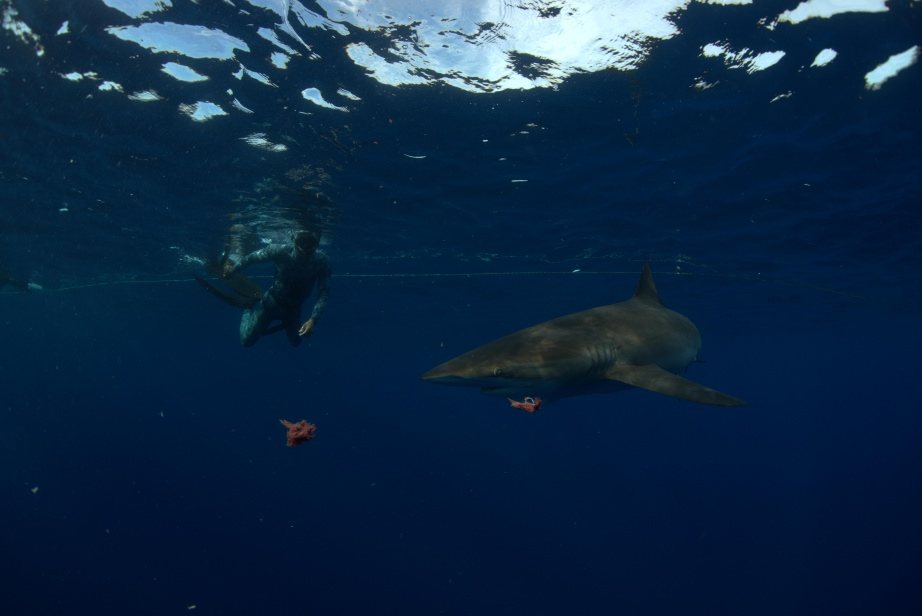Sedoso: (392, 250, 757, 440)
